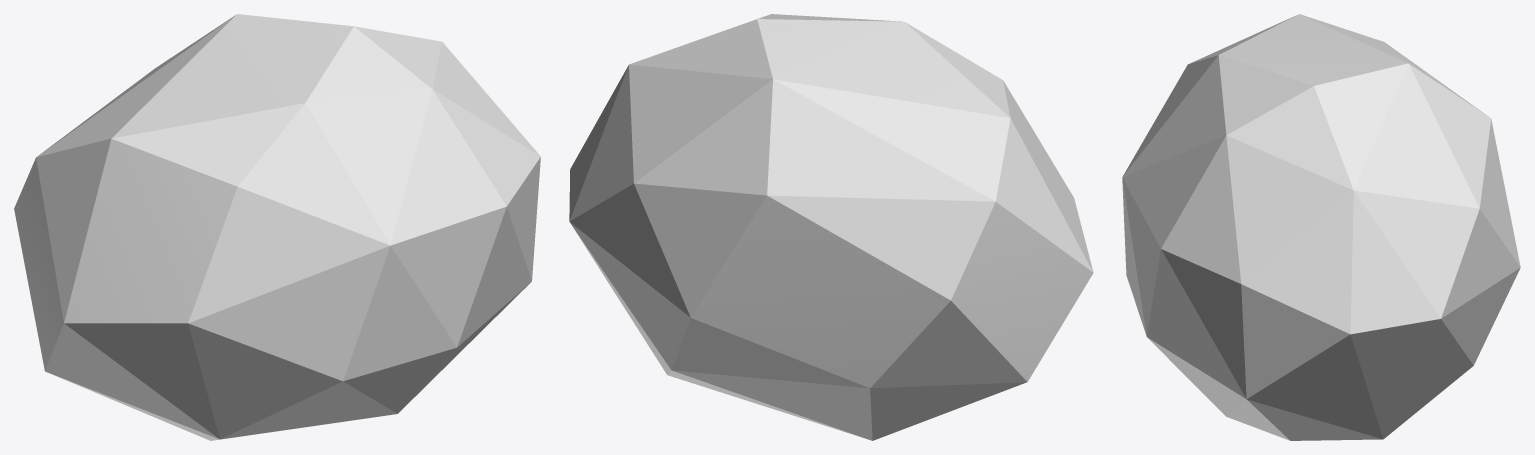
File: cloud_15.fbx
The picture shows the model from 3 angles, left to right: view 1: azimuth 30°, elevation 25°; view 2: azimuth 150°, elevation 25°; view 3: azimuth 270°, elevation 25°; orthographic projection. The views are drawn at different scales.
Parts seen in each view (by area): view 1: cloud_15; view 2: cloud_15; view 3: cloud_15.
Boxes of the visible parts, x1,y1,x2,y2 form: cloud_15: (14, 14, 540, 440); cloud_15: (569, 14, 1093, 440); cloud_15: (1122, 14, 1520, 440).
Bounding box in the file's own units: 429 × 315 × 323.
